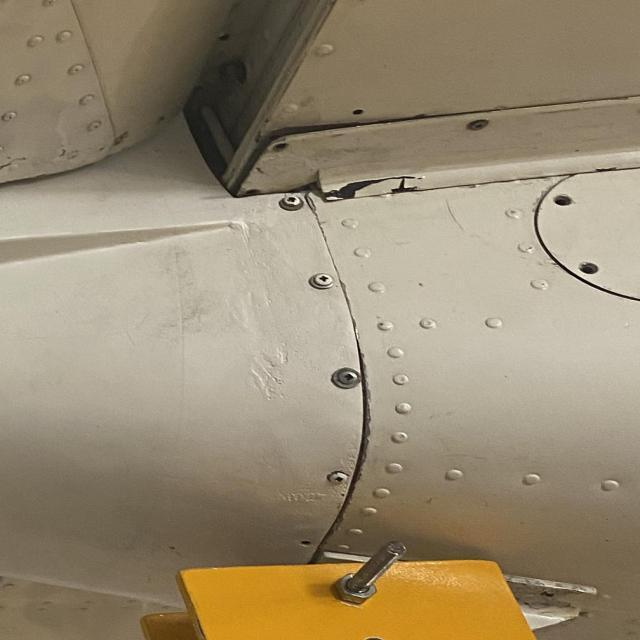Missing-head: (577, 260, 602, 277), (554, 191, 577, 208), (272, 141, 289, 154)
